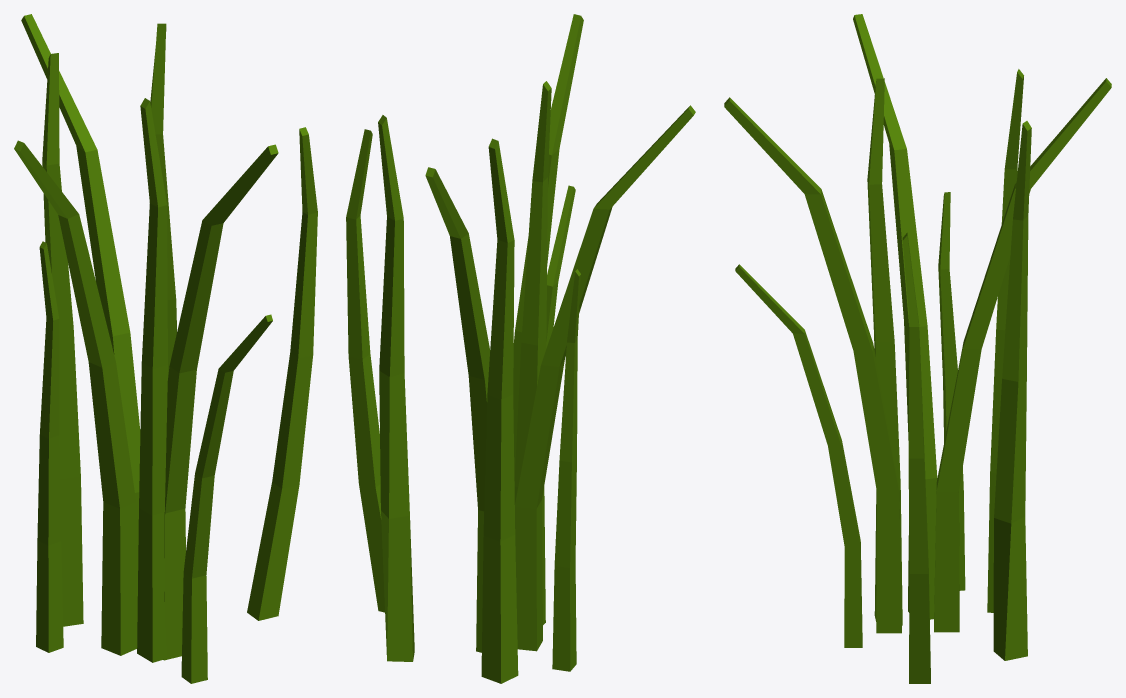
Rendered from long_grass.fbx.
The picture shows the model from 3 angles, left to right: view 1: azimuth 30°, elevation 25°; view 2: azimuth 150°, elevation 25°; view 3: azimuth 270°, elevation 25°; orthographic projection. The views are drawn at different scales.
Visible parts, largest first — view 1: Long Grass.001; view 2: Long Grass.001; view 3: Long Grass.001.
Boxes of the visible parts, bbox=[...] form: Long Grass.001: bbox=[14, 14, 317, 683]; Long Grass.001: bbox=[346, 14, 695, 683]; Long Grass.001: bbox=[724, 14, 1111, 683].
Bounding box in the file's own units: 118 × 197 × 126.
